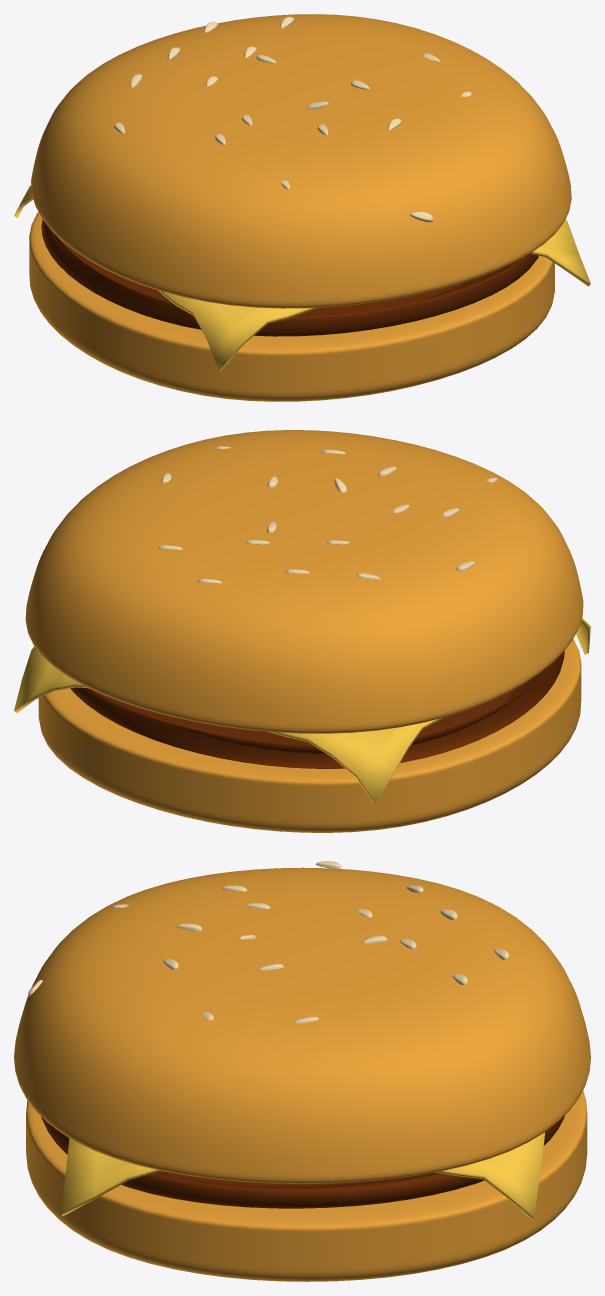
File: hamburger1.glb
The picture shows the model from 3 angles, top to bottom: view 1: azimuth 30°, elevation 25°; view 2: azimuth 150°, elevation 25°; view 3: azimuth 270°, elevation 25°; orthographic projection. The views are drawn at different scales.
Visible parts, largest first — view 1: Cube.002, Cube, Cube.001, Plane; view 2: Cube.002, Cube, Cube.001, Plane; view 3: Cube.002, Cube, Cube.001, Plane.
Boxes of the visible parts, x1,y1,x2,y2 form: Cube.002: (31,14,571,308); Cube: (29,212,554,401); Cube.001: (41,219,538,336); Plane: (14,185,590,371); Cube.002: (25,430,583,733); Cube: (38,639,581,832); Cube.001: (70,651,564,768); Plane: (14,617,590,803); Cube.002: (14,867,590,1183); Cube: (26,1090,587,1281); Cube.001: (41,1115,564,1208); Plane: (61,1132,544,1219).
Bounding box in the file's own units: 9.57 × 4.56 × 9.55.
